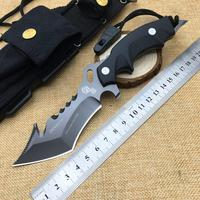knife: (5, 15, 175, 170)
